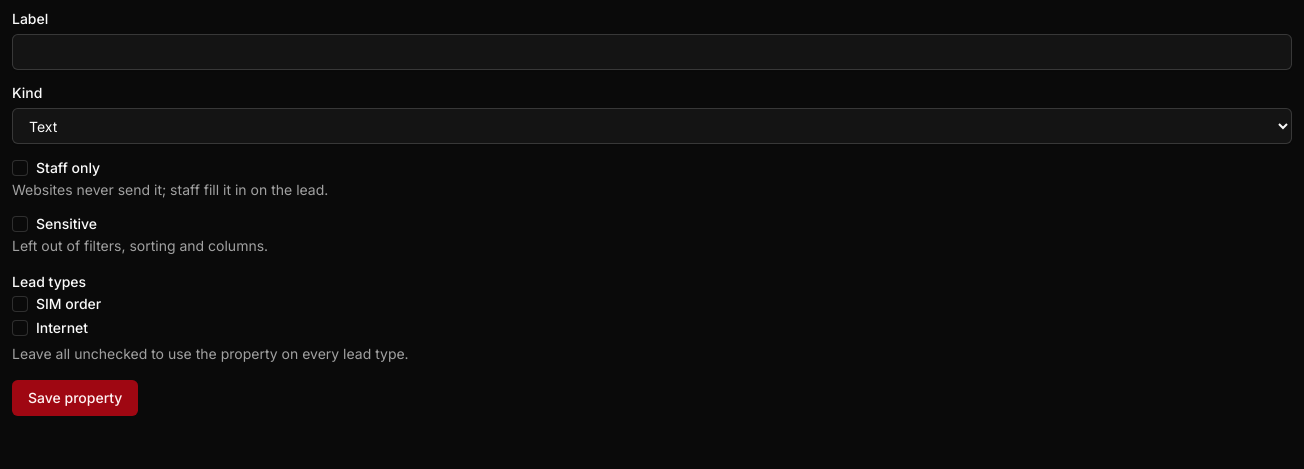
it: PropertyEditor when adding › asks for a label before saving
Click the button "Save property" at {"x": 75, "y": 398}, box [12,380,138,416]
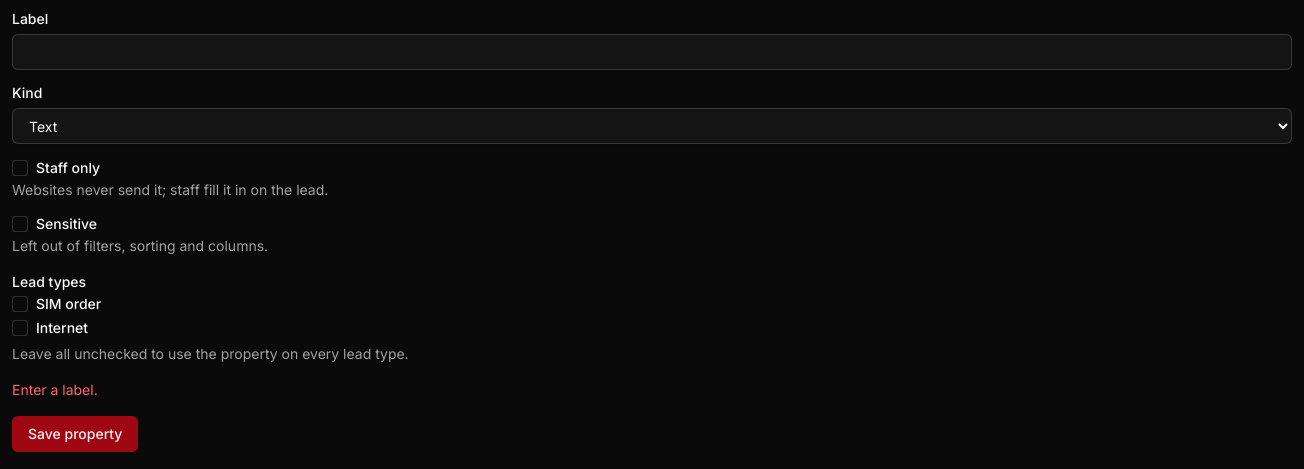
Now the message reads "Enter a label.", box [12,381,98,398]
